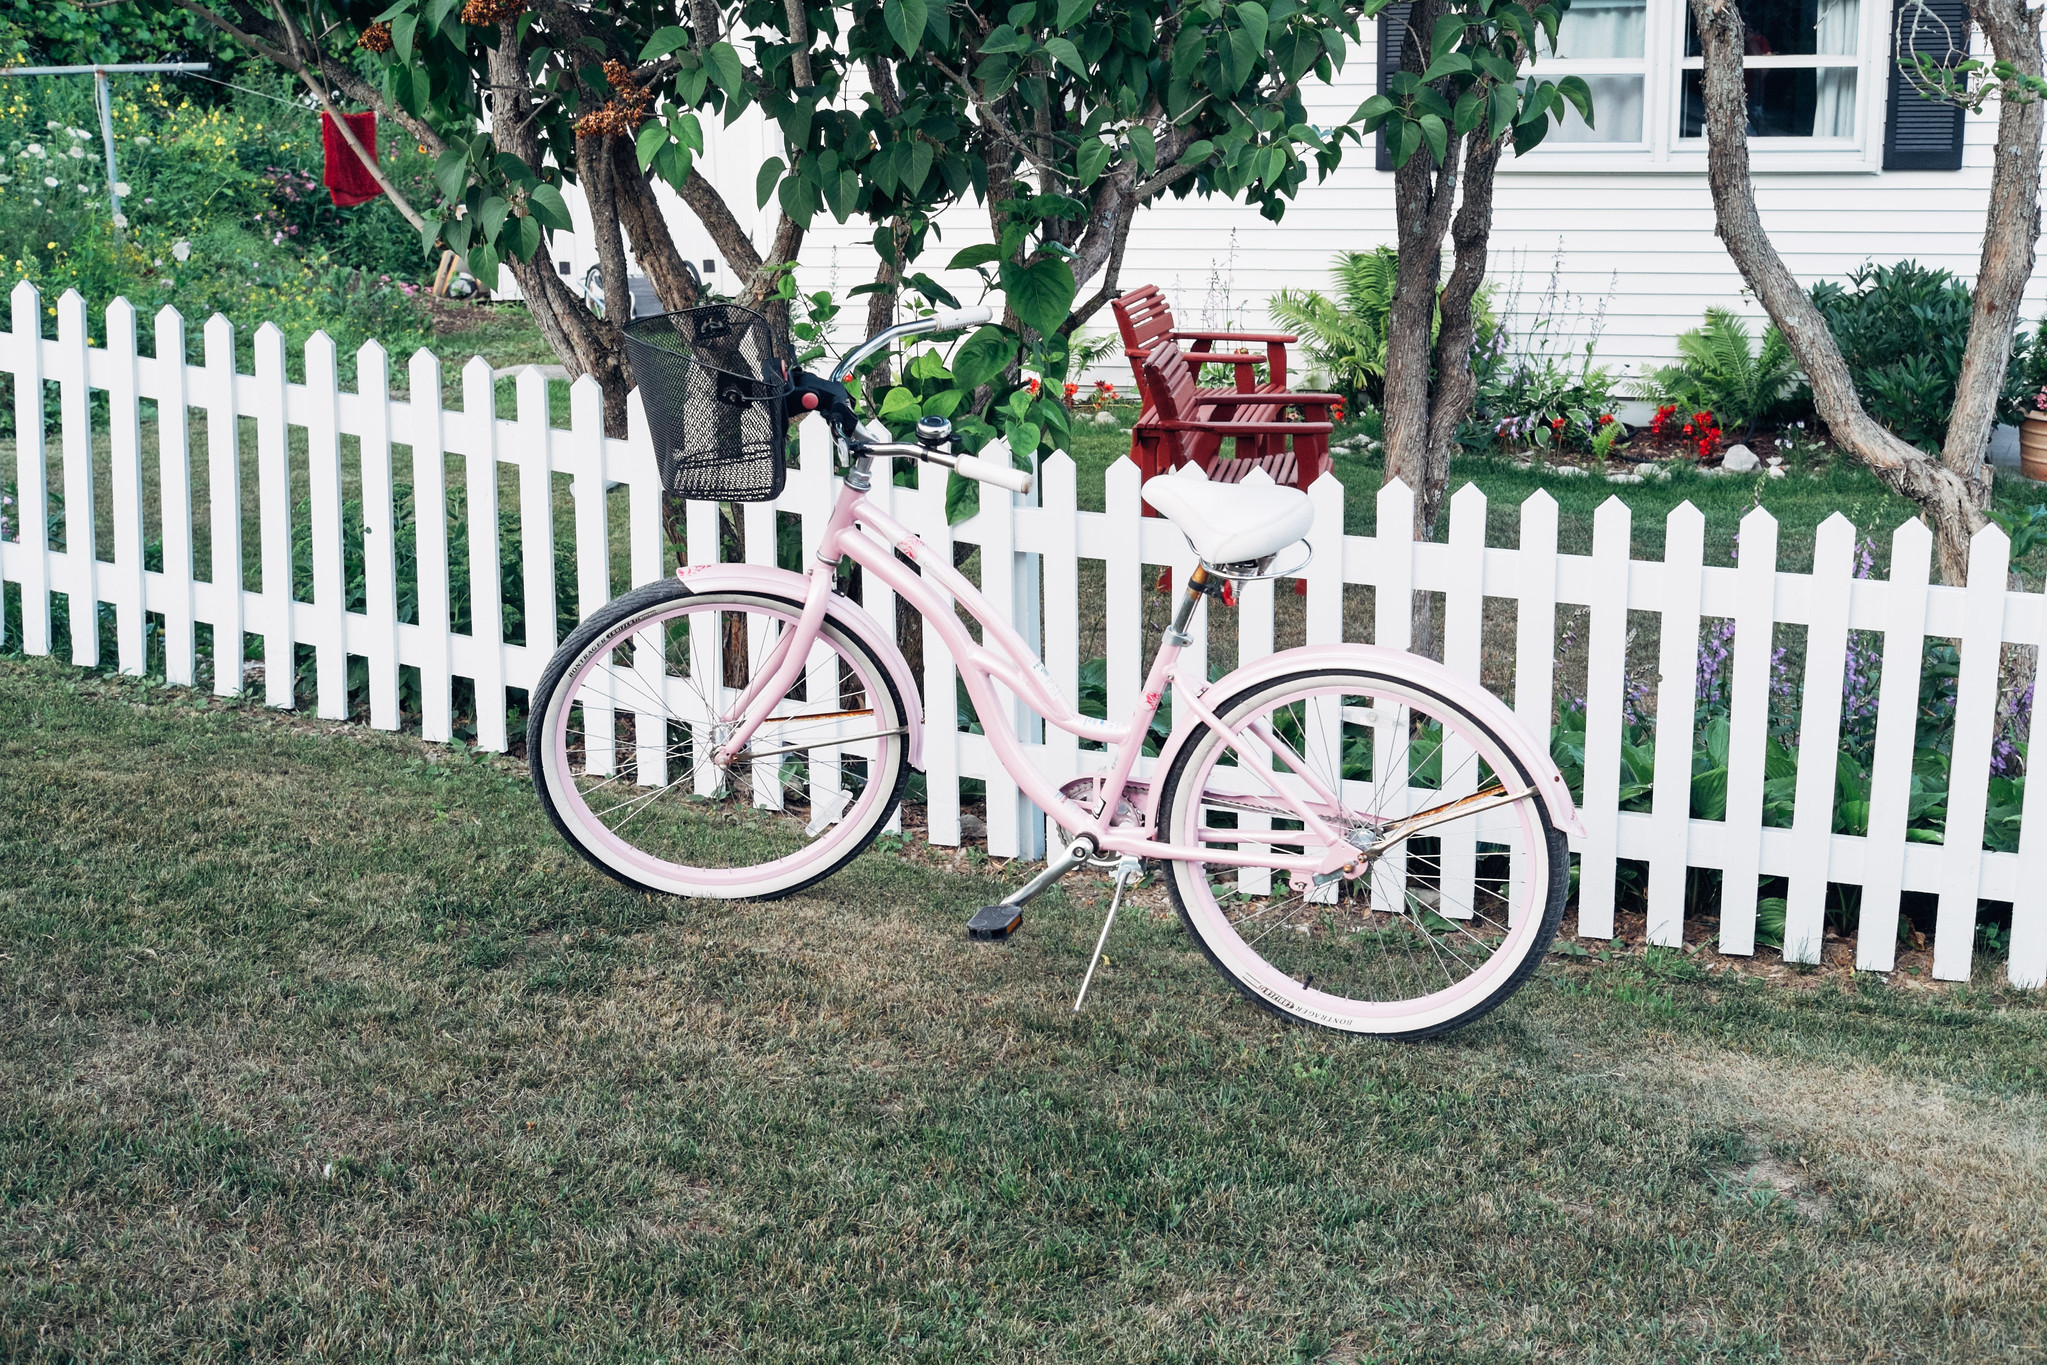bicycle: (544, 326, 1593, 1086)
chair: (1144, 338, 1368, 523), (1103, 292, 1311, 398)
